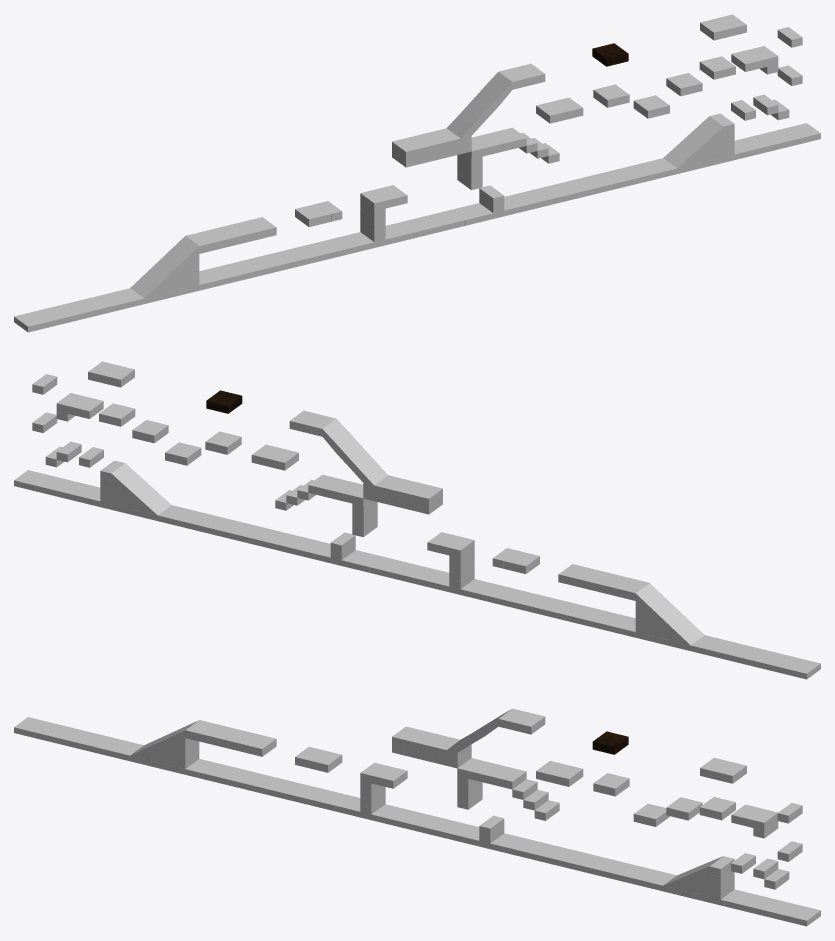
File: Map_001.fbx
3 views of the same model, one above another, from view 1: azimuth 30°, elevation 25°; view 2: azimuth 150°, elevation 25°; view 3: azimuth 330°, elevation 25° (orthographic).
Visible parts, largest first — view 1: group1_polySurface11, polySurface52, polySurface12, polySurface53, polySurface205, polySurface200; view 2: group1_polySurface11, polySurface52, polySurface12, polySurface53, polySurface205, polySurface200; view 3: group1_polySurface11, polySurface52, polySurface12, polySurface53, polySurface200, polySurface205.
Boxes of the visible parts, x1,y1,x2,y2 form: group1_polySurface11: (185, 14, 802, 253); polySurface52: (14, 123, 820, 332); polySurface12: (130, 236, 199, 298); polySurface53: (663, 116, 723, 168); polySurface205: (446, 72, 512, 138); polySurface200: (592, 43, 628, 66); group1_polySurface11: (32, 361, 649, 600); polySurface52: (14, 470, 820, 679); polySurface12: (635, 583, 704, 645); polySurface53: (111, 463, 171, 515); polySurface205: (322, 419, 387, 485); polySurface200: (206, 390, 242, 413); group1_polySurface11: (185, 708, 802, 899); polySurface52: (14, 717, 820, 926); polySurface12: (130, 721, 199, 768); polySurface53: (663, 856, 722, 896); polySurface200: (592, 731, 628, 754); polySurface205: (447, 709, 510, 752).
Size of the model in its own units: 15772 by 2517 by 492.
